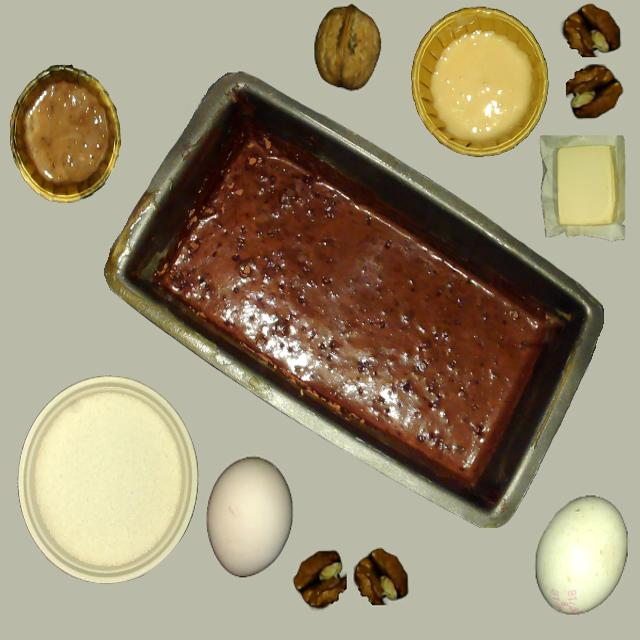Sugar: (18, 376, 196, 582)
Walnut: (314, 5, 382, 90)
